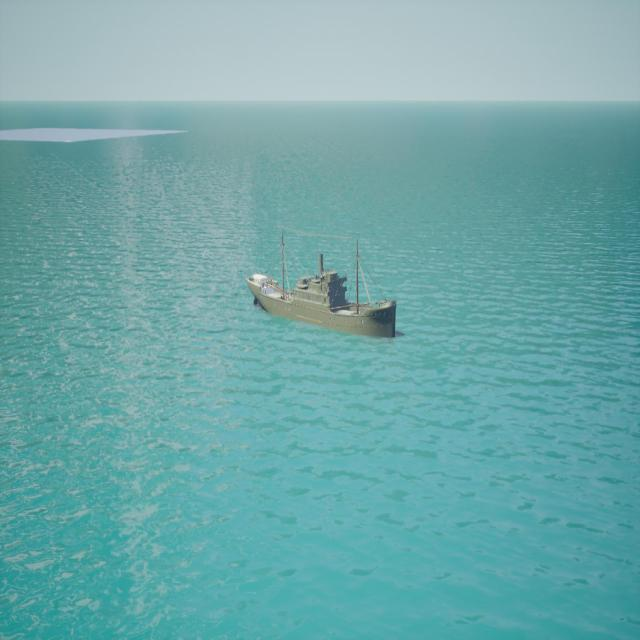fishing ship: (248, 237, 399, 342)
